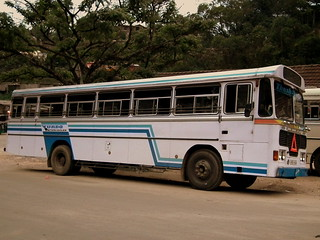bus: (6, 65, 308, 190)
